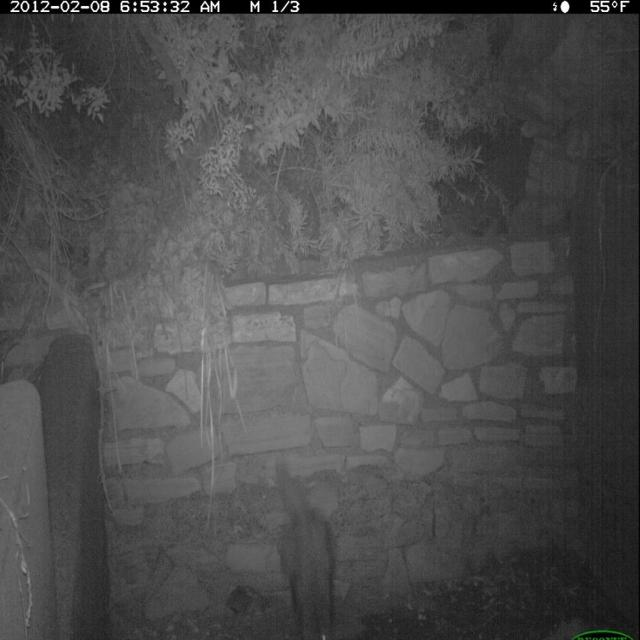raccoon: (271, 447, 342, 640)
